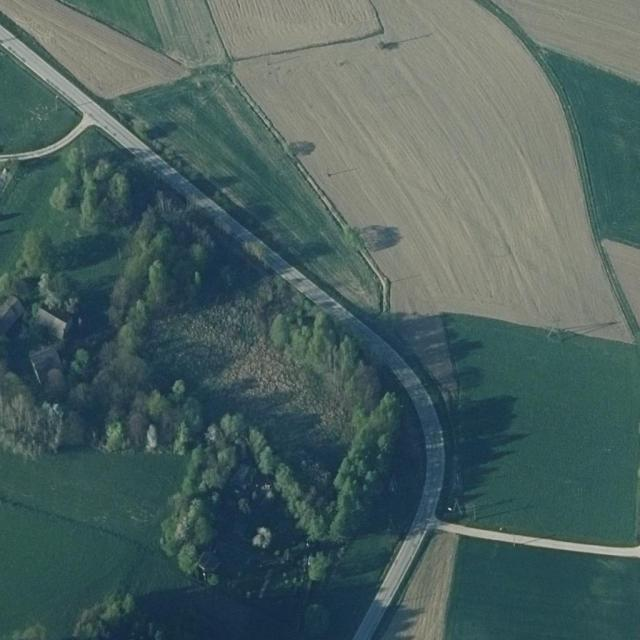agricultural_land: (103, 22, 436, 328), (432, 314, 640, 545), (0, 452, 191, 638), (534, 17, 640, 257), (0, 0, 192, 129), (445, 539, 640, 640), (381, 525, 487, 640), (0, 49, 82, 154), (0, 154, 70, 268), (394, 308, 463, 415), (600, 227, 640, 326)
greenland: (32, 108, 236, 341), (0, 231, 201, 457), (254, 271, 425, 492)
unmetalled_road: (0, 111, 99, 176)
